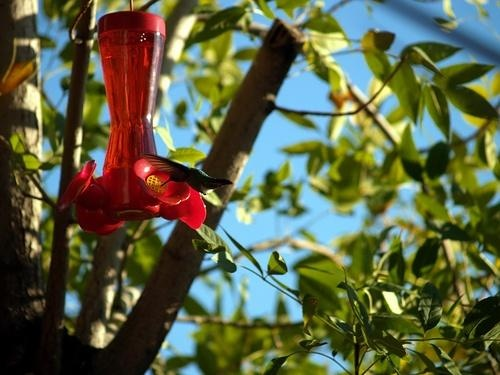bird: (143, 152, 235, 197)
